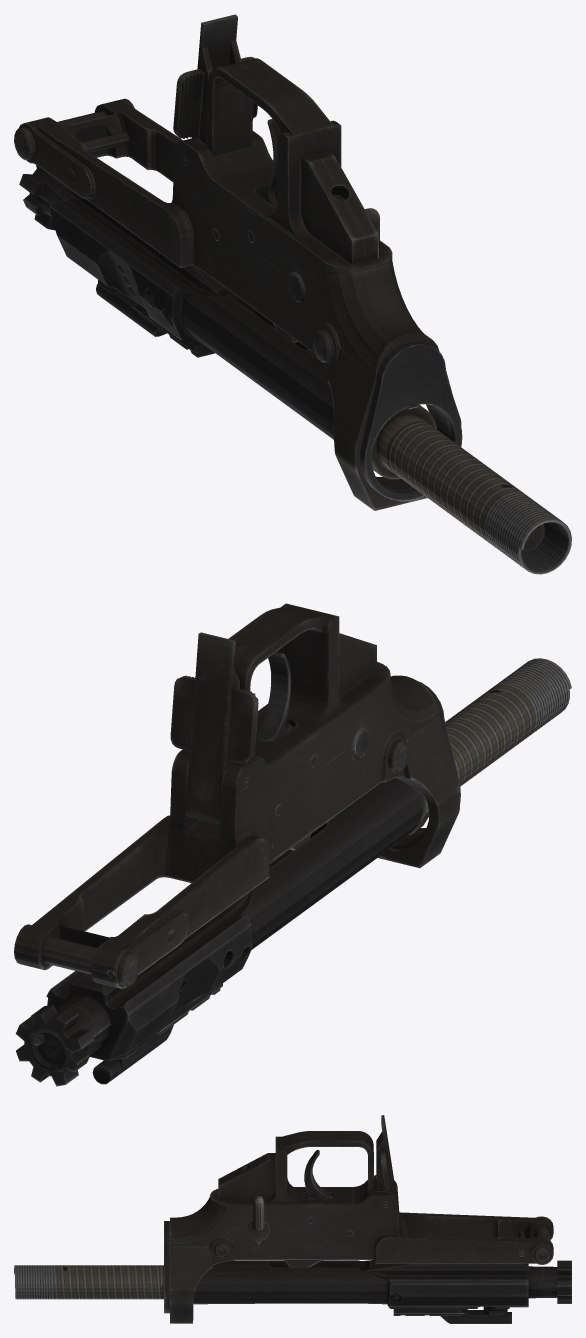
3 views of the same model, one above another, from view 1: azimuth 30°, elevation 25°; view 2: azimuth 150°, elevation 25°; view 3: azimuth 270°, elevation 25° (orthographic). The views are drawn at different scales.
Parts seen in each view (by area): view 1: TW_606587252535c57a13424cfd_PZ_Import; view 2: TW_606587252535c57a13424cfd_PZ_Import; view 3: TW_606587252535c57a13424cfd_PZ_Import.
Part boxes in pixels (<box>): TW_606587252535c57a13424cfd_PZ_Import: <box>14,14,571,574</box>; TW_606587252535c57a13424cfd_PZ_Import: <box>14,603,571,1086</box>; TW_606587252535c57a13424cfd_PZ_Import: <box>14,1115,571,1323</box>.
Bounding box in the file's own units: 0.0232 × 0.176 × 0.0709.
1 material, 1 textured.
